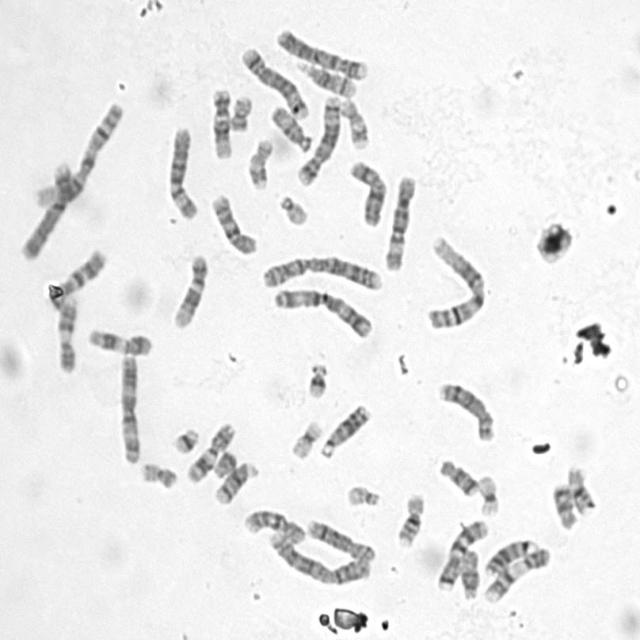A1: (28, 96, 124, 210), (420, 230, 490, 330)
A2: (263, 526, 372, 586), (257, 248, 385, 292)
A3: (268, 282, 374, 340), (112, 348, 142, 464)
B4: (15, 154, 76, 261), (271, 22, 371, 82)
B5: (236, 40, 311, 120), (292, 88, 342, 187)
C10: (205, 187, 259, 256), (240, 502, 308, 546)
C11: (182, 416, 237, 484), (82, 322, 153, 358)
C12: (167, 248, 209, 330), (207, 82, 234, 160)
C6: (379, 169, 419, 272), (162, 120, 200, 220)
C7: (432, 512, 491, 593), (44, 243, 107, 310)
C8: (433, 374, 498, 444), (302, 512, 378, 564)
C9: (479, 540, 553, 604), (51, 292, 79, 374)
D13: (316, 397, 372, 459), (481, 532, 538, 577)
D14: (291, 54, 359, 99), (210, 455, 260, 505)
D15: (265, 100, 313, 153), (456, 544, 482, 601)
E16: (390, 487, 427, 549), (562, 460, 598, 515)
E17: (336, 93, 371, 150), (242, 132, 274, 190)
E18: (434, 452, 481, 498), (548, 477, 579, 530)
F19: (285, 414, 324, 461), (474, 468, 501, 517)
F20: (136, 456, 178, 490), (225, 90, 254, 132)
G21: (302, 356, 330, 399), (167, 421, 201, 455)
G22: (273, 189, 310, 227), (342, 478, 382, 509)
X: (344, 154, 389, 228)
Y: (208, 444, 238, 479)
